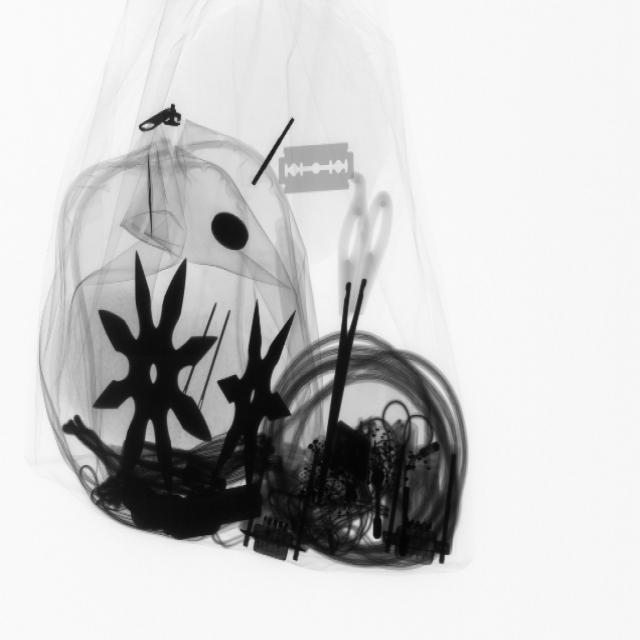BLADE: (269, 131, 365, 205)
SHURIKEN: (93, 254, 222, 487), (212, 293, 299, 489)
